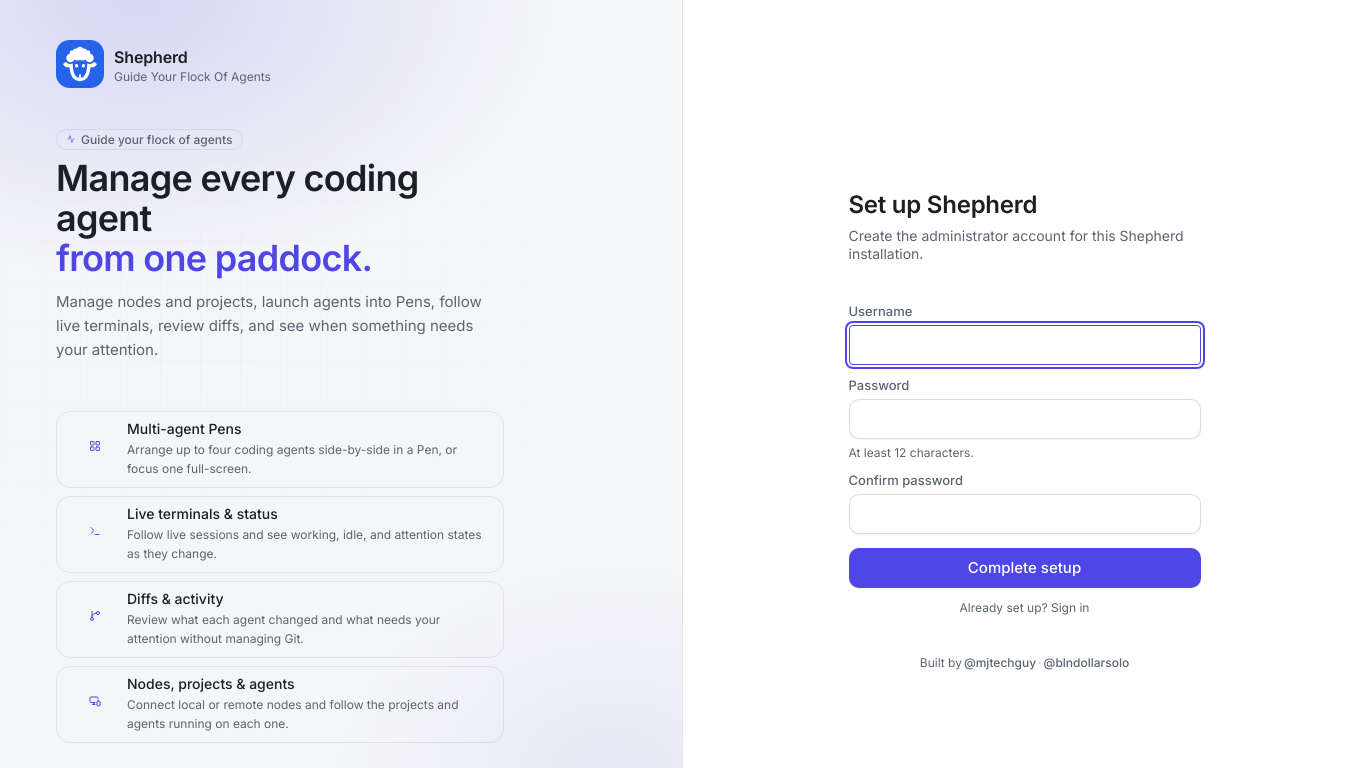
Scenario: AuthScreen first-run confirmation › blocks setup when the password is shorter than 12 chars
The image size is (1366, 768).
Type "admin" into the field labelled "Username". click: (1024, 345)
box: [848,325,1200,365]
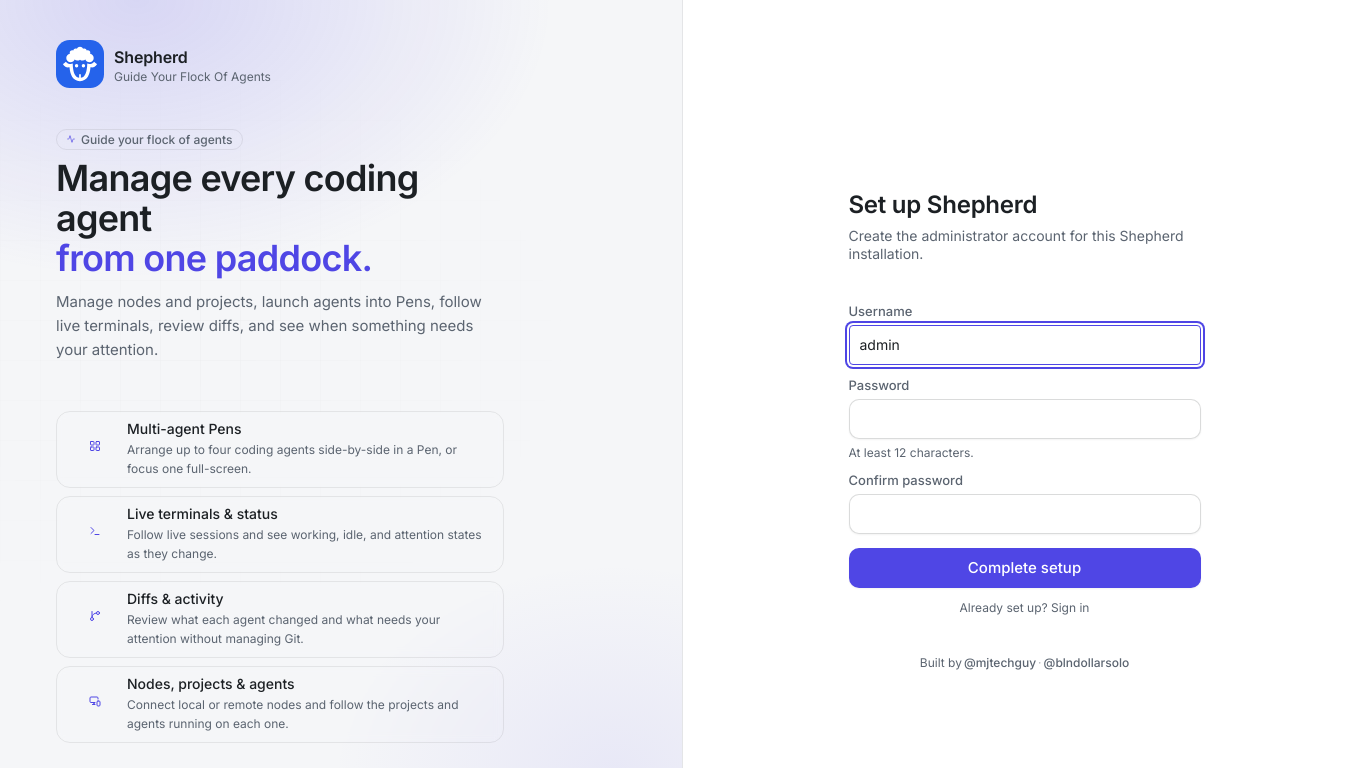
Type "short" into the password field labelled "Password". click: (1024, 419)
box: [848,399,1200,439]
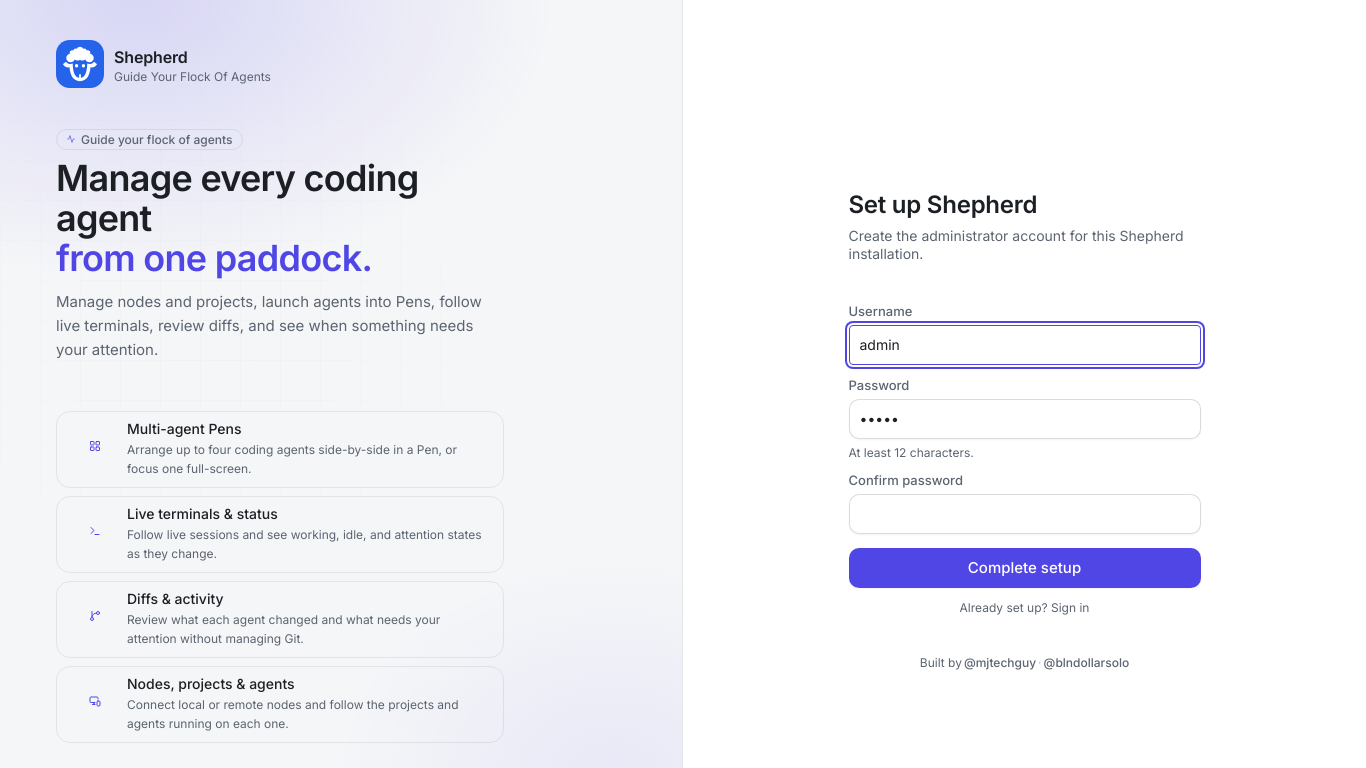
Type "short" into the password field labelled "Confirm password". click: (1024, 514)
box: [848,494,1200,534]
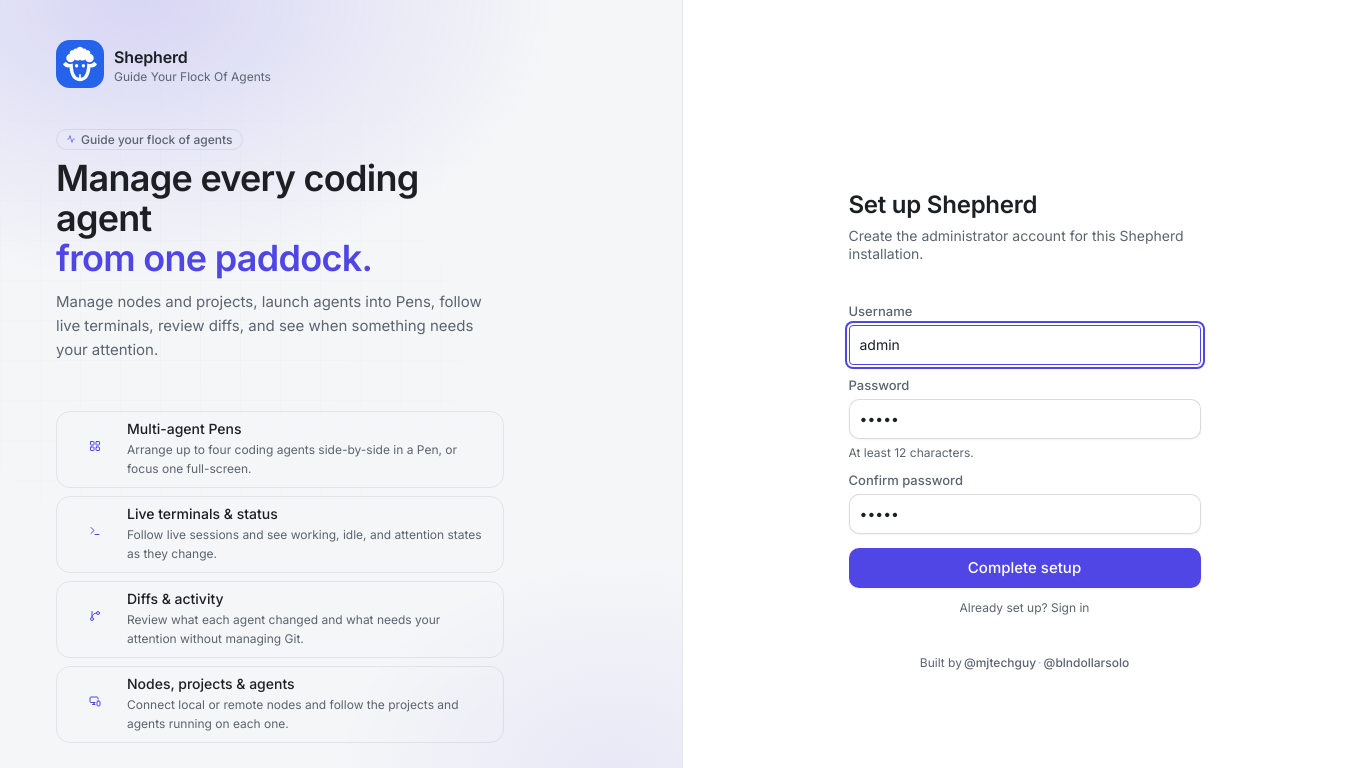
Click the button "Complete setup". click: (1024, 568)
box: [848,548,1200,588]
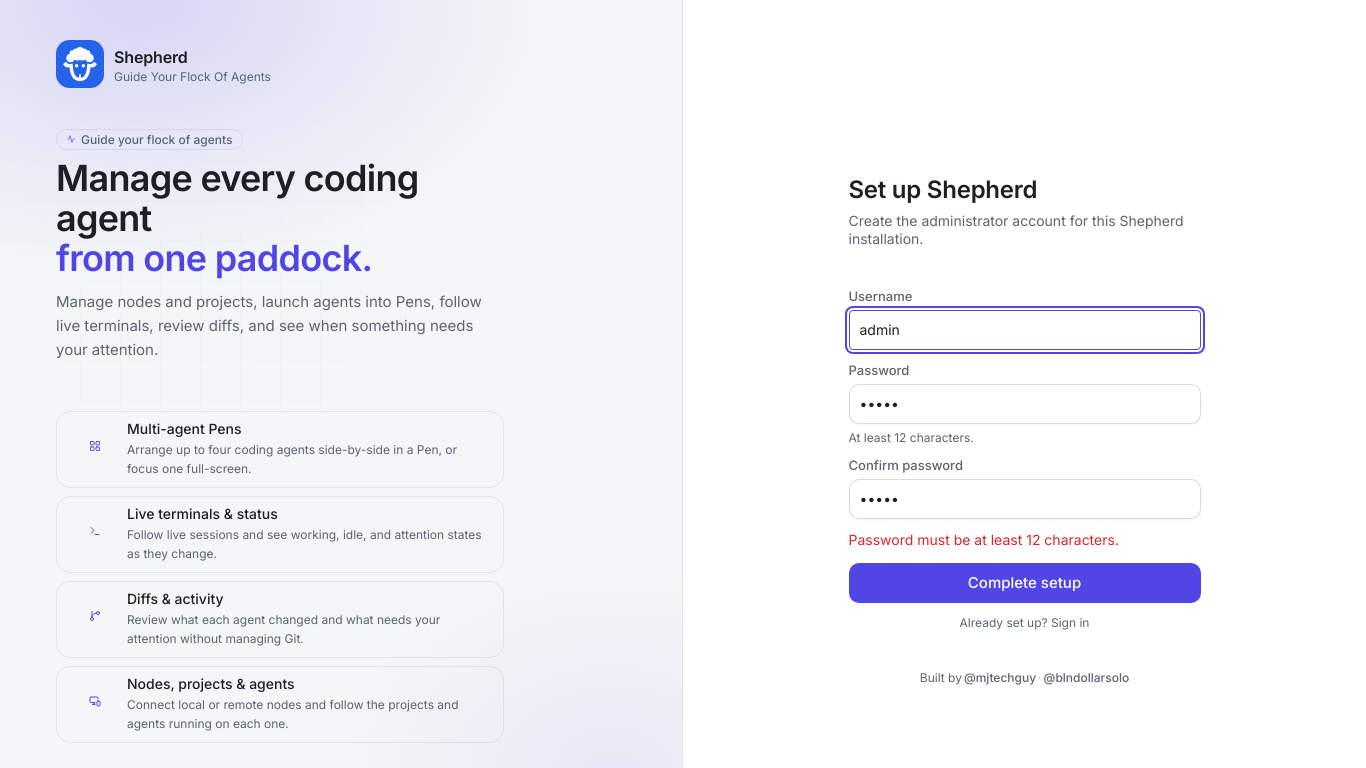
Now the message shows "at least 12", box [848,531,1119,548]
